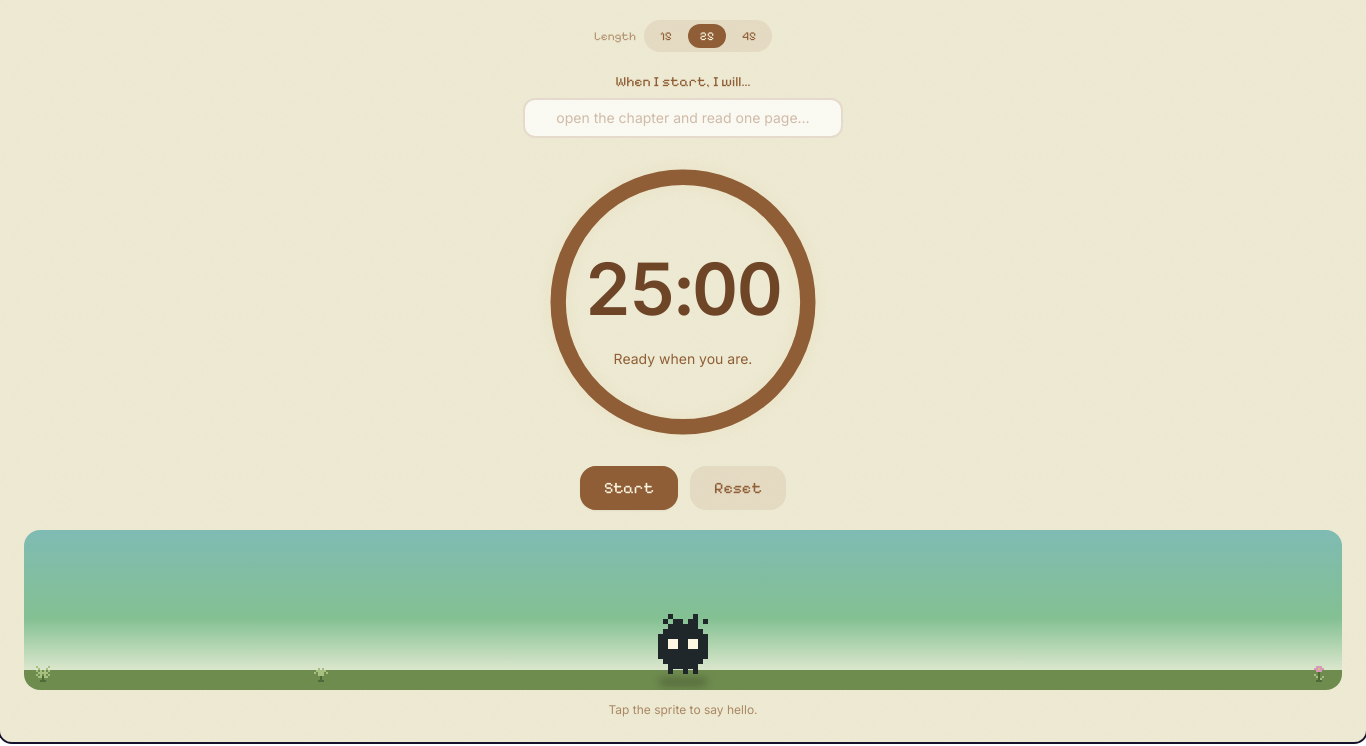
Test: PomodoroTimer — companion presence › tapping the companion still opens the talk panel while presence is active
(page scrolled)
Click the button named "talk to pip" at (683, 644), box [653,614,713,674]
(page scrolled)
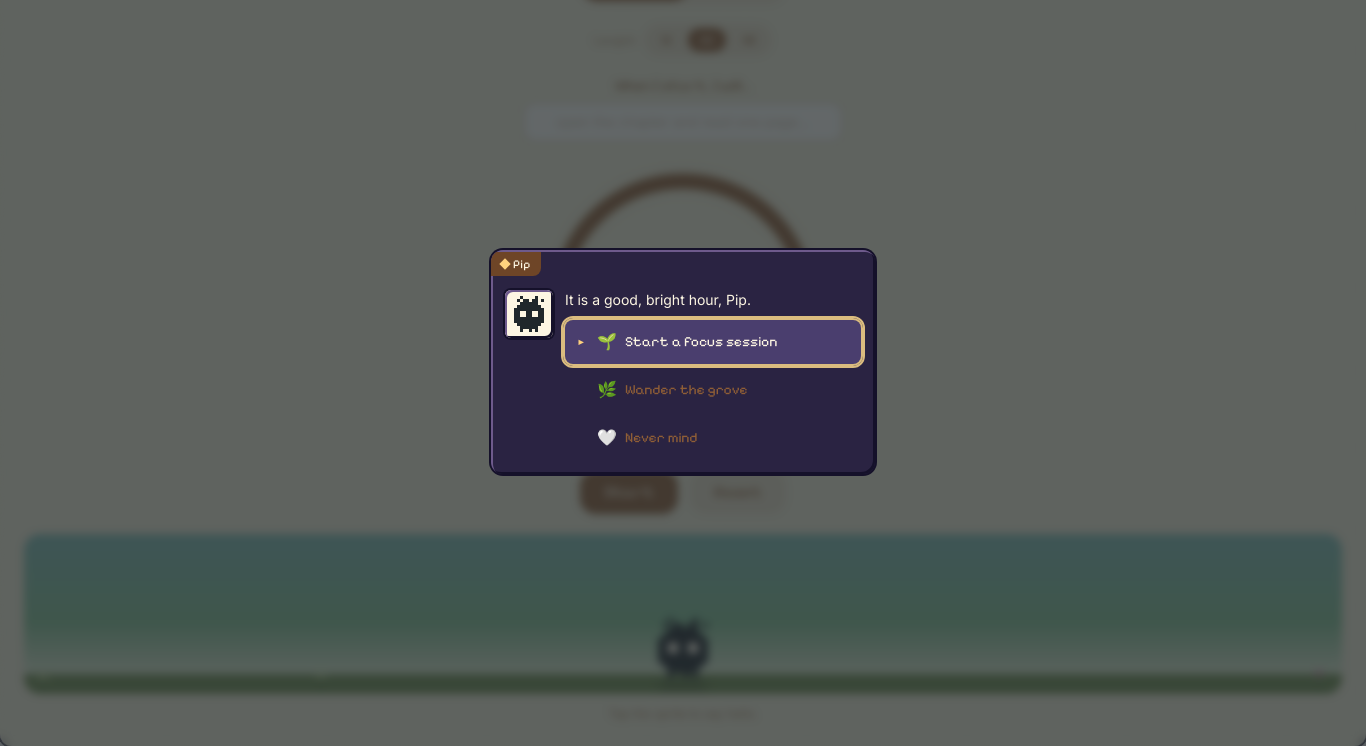
Result: the dialog named "talk to pip" is shown at [491,250,875,474]
